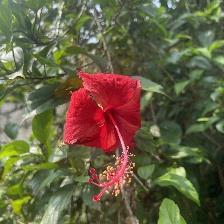hibiscus: (61, 69, 153, 210)
